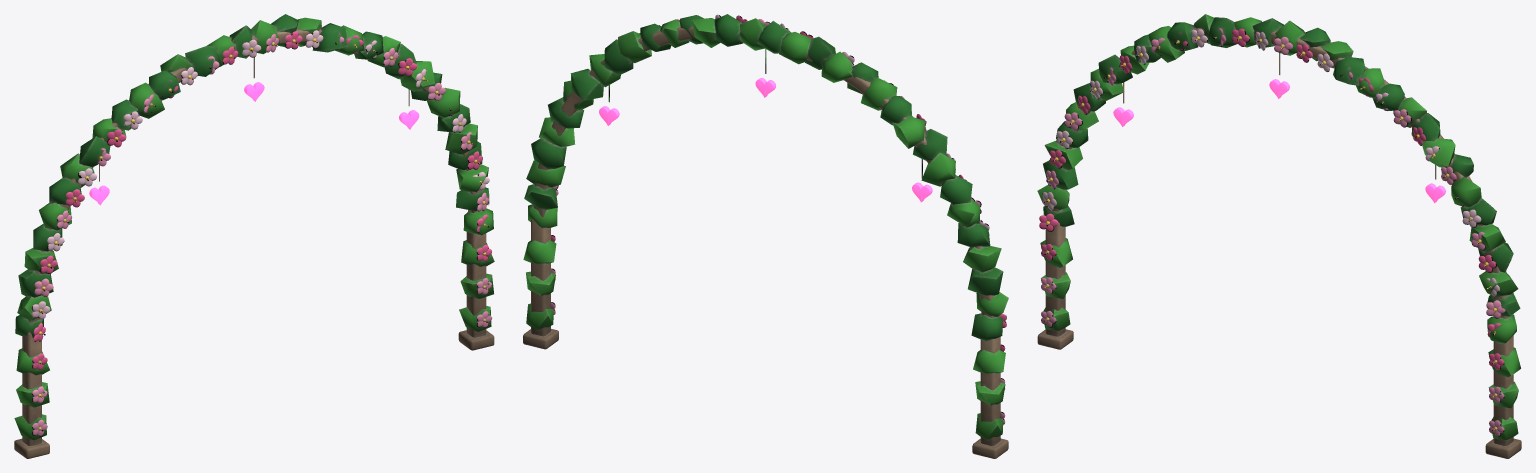
Rendered from en_flower_arch.glb.
3 renders of one model, left to right at view 1: azimuth 30°, elevation 25°; view 2: azimuth 150°, elevation 25°; view 3: azimuth 330°, elevation 25°, orthographic.
Visible parts, largest first — view 1: en_flower_arch; view 2: en_flower_arch; view 3: en_flower_arch.
Boxes of the visible parts, bbox=[...] form: en_flower_arch: bbox=[14, 14, 494, 458]; en_flower_arch: bbox=[523, 14, 1008, 458]; en_flower_arch: bbox=[1037, 14, 1521, 458].
Bounding box in the file's own units: 11.94 × 9.02 × 0.975.
Materials: 8 (8 with a texture image).
